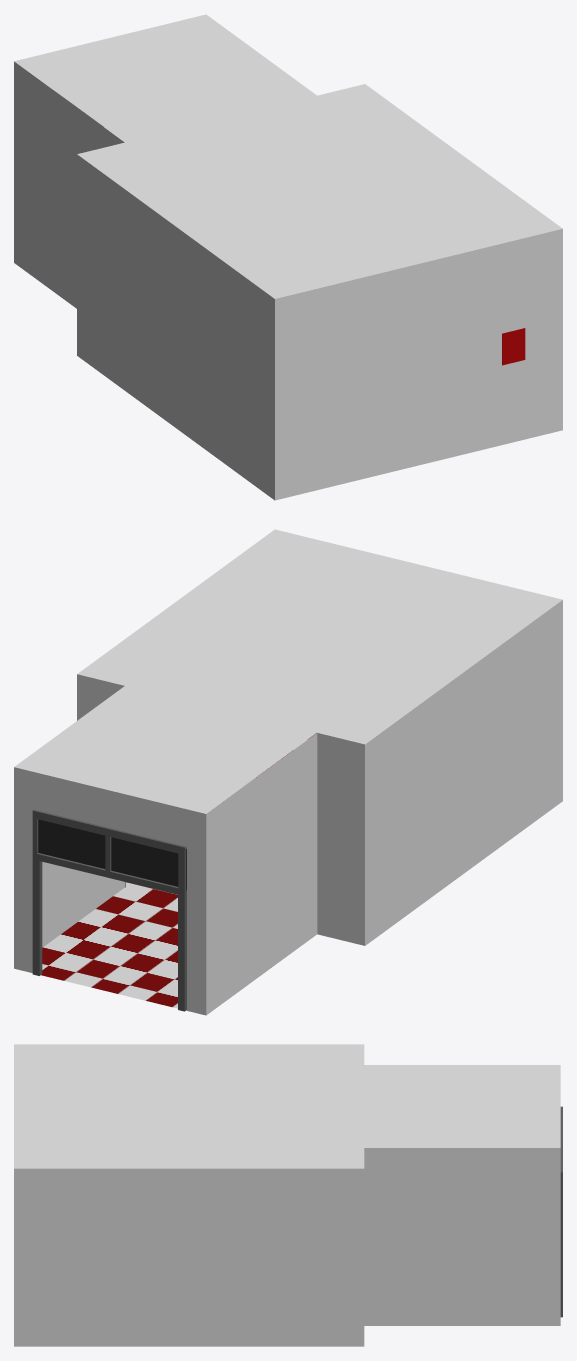
File: restaurant.fbx
3 views of the same model, one above another, from view 1: azimuth 30°, elevation 25°; view 2: azimuth 150°, elevation 25°; view 3: azimuth 270°, elevation 25° (orthographic). The views are drawn at different scales.
Parts seen in each view (by area): view 1: Plane, Cube.006; view 2: Plane, Plane.001, Cube.008; view 3: Plane, Cube.008.
Boxes of the visible parts, <box> form: Plane: <box>14,14,562,500</box>; Cube.006: <box>502,328,525,365</box>; Plane: <box>14,529,562,1015</box>; Plane.001: <box>14,767,206,1015</box>; Cube.008: <box>32,809,186,1011</box>; Plane: <box>14,1044,560,1346</box>; Cube.008: <box>560,1106,562,1317</box>.
Bounding box in the file's own units: 600 × 402 × 1119.
40 materials, 4 textured.
